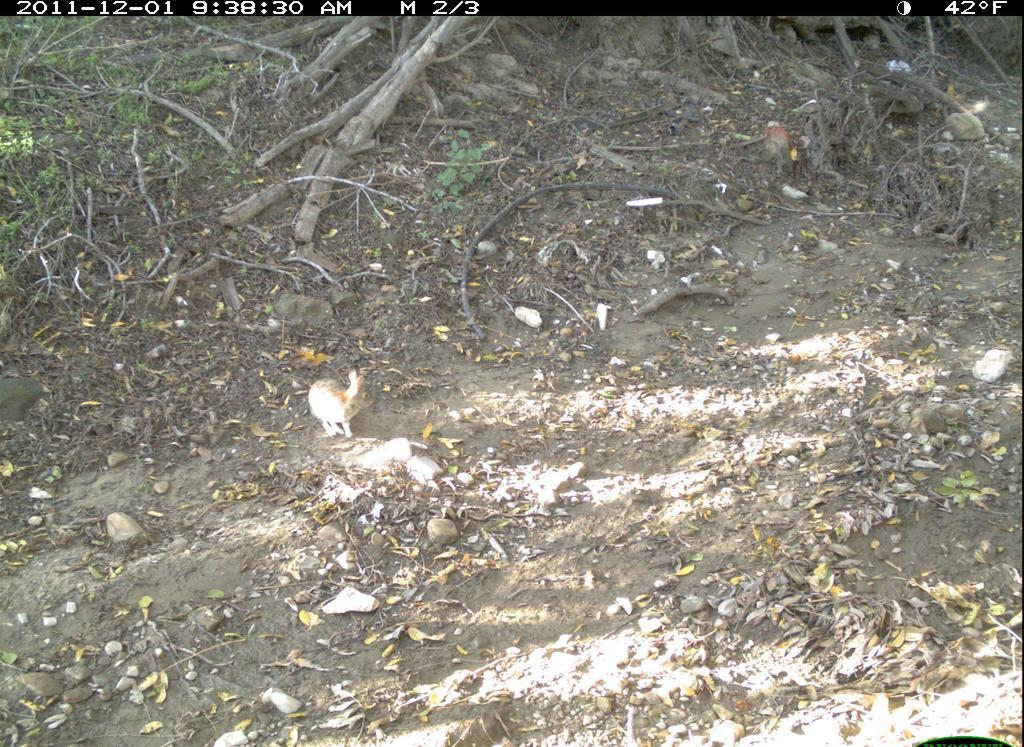rabbit: (296, 353, 392, 454)
